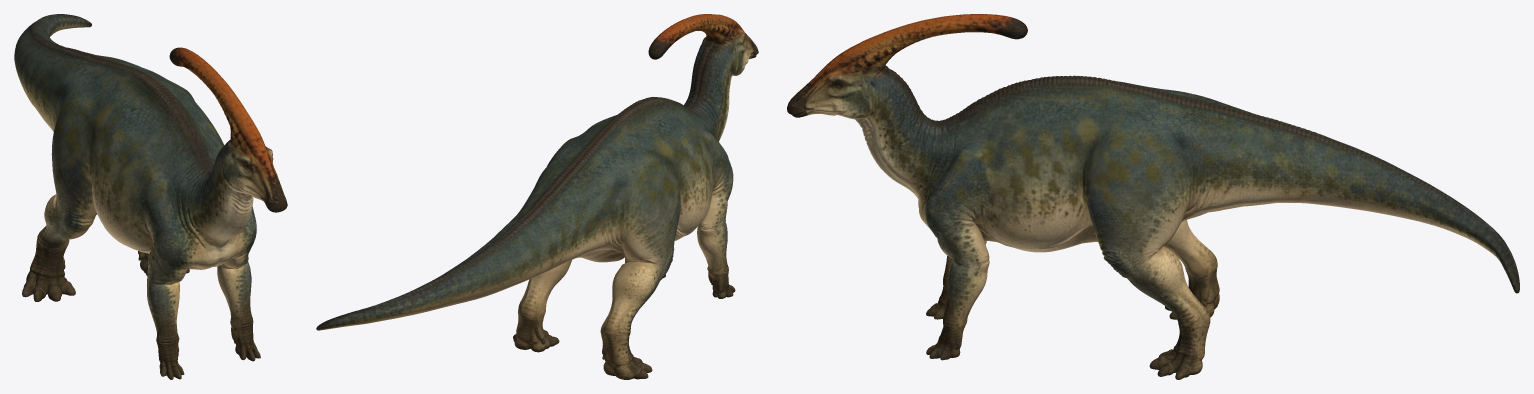
3 views of the same model, side by side, from view 1: azimuth 30°, elevation 25°; view 2: azimuth 150°, elevation 25°; view 3: azimuth 270°, elevation 25° (orthographic). The views are drawn at different scales.
Visible parts, largest first — view 1: Authored orientation; view 2: Authored orientation; view 3: Authored orientation.
Part boxes in pixels (box(x1,y1,x2,y2)): Authored orientation: box(14, 14, 287, 379); Authored orientation: box(316, 14, 758, 379); Authored orientation: box(787, 14, 1519, 379).
Bounding box in the file's own units: 3.34 × 4.36 × 9.
1 material, 1 textured.
